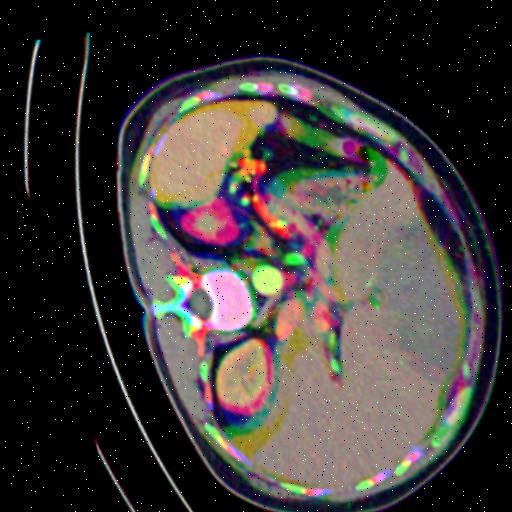Abscess: (374, 213, 452, 380)
